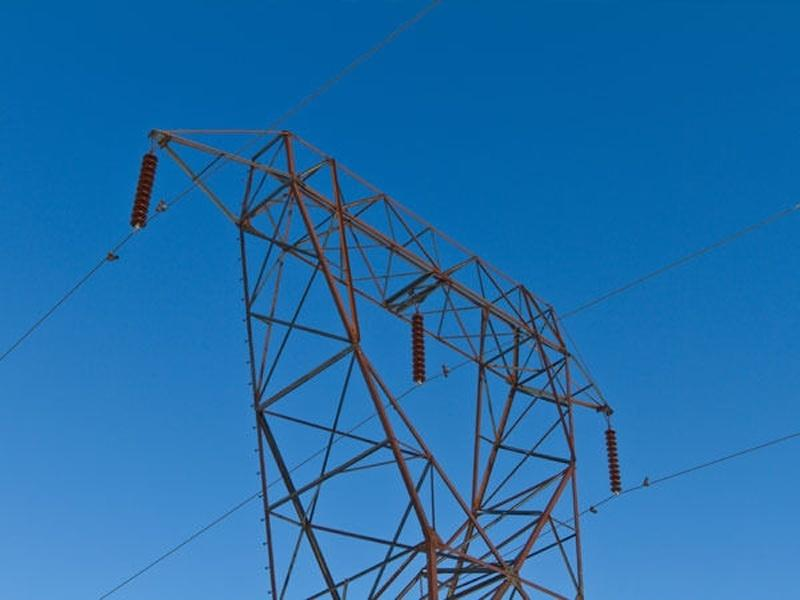power_tower: (139, 105, 649, 594)
